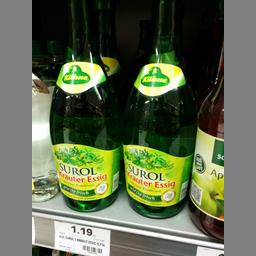vinegar: (124, 2, 196, 220), (48, 0, 122, 211)
